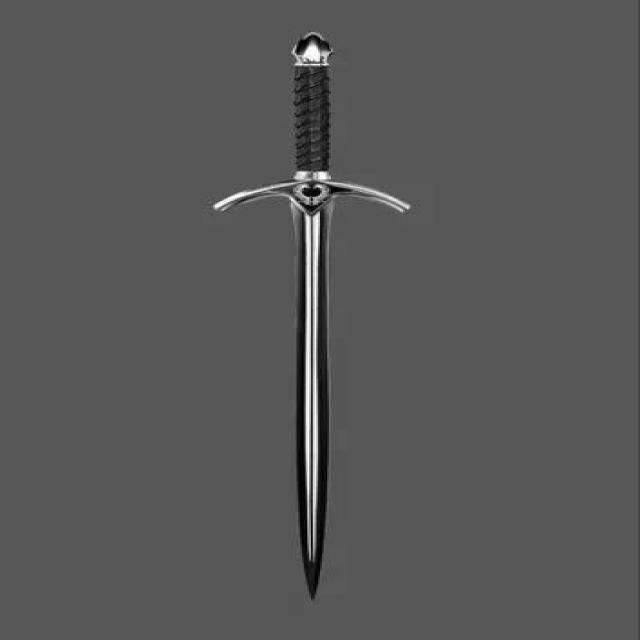Knife: (188, 30, 464, 632)
